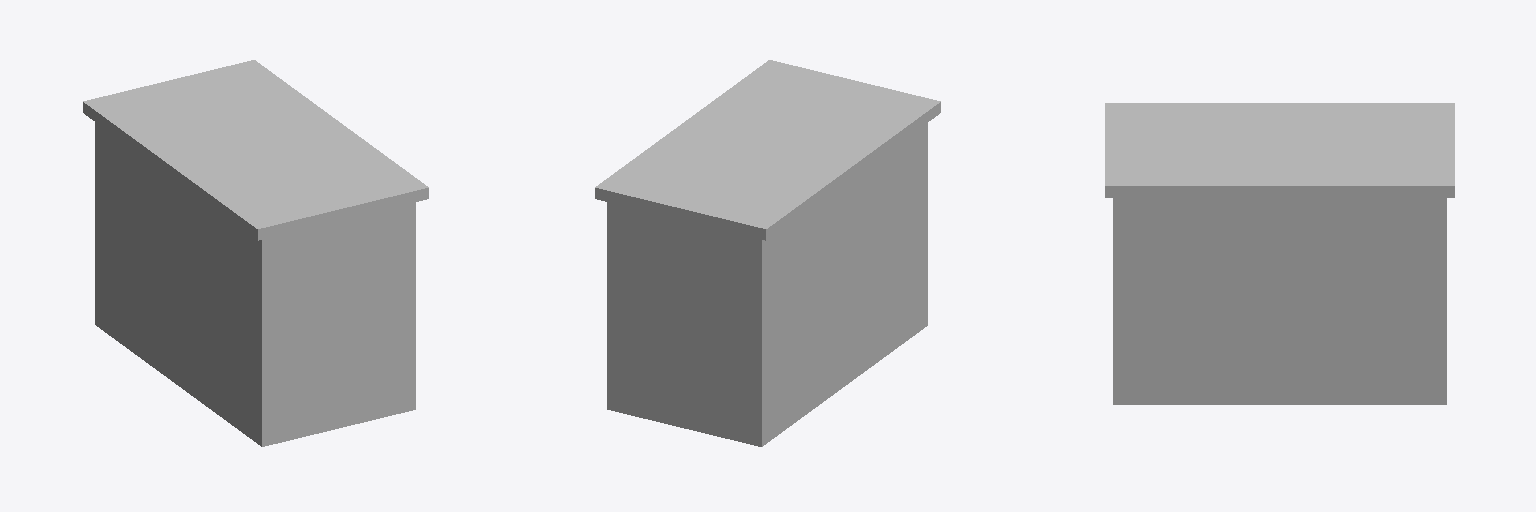
File: 2FloorBuilding.obj
3 views of the same model, side by side, from view 1: azimuth 30°, elevation 25°; view 2: azimuth 150°, elevation 25°; view 3: azimuth 270°, elevation 25° (orthographic).
Visible parts, largest first — view 1: SP_TD_2_Story_Building; view 2: SP_TD_2_Story_Building; view 3: SP_TD_2_Story_Building.
Part boxes in pixels (bbox=[...]): SP_TD_2_Story_Building: bbox=[83, 60, 428, 446]; SP_TD_2_Story_Building: bbox=[595, 60, 940, 446]; SP_TD_2_Story_Building: bbox=[1105, 103, 1454, 404].
Bounding box in the file's own units: 10.22 × 12.68 × 18.02.